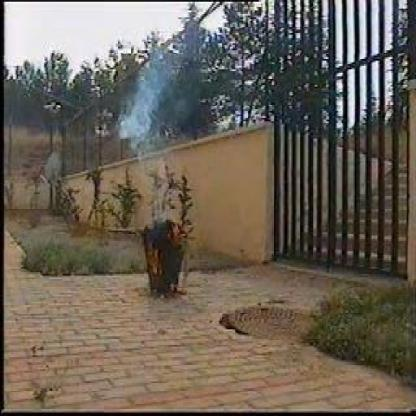-: (116, 49, 168, 145)
foggia-v2-map80-epoch100 - v1 4323: (146, 242, 163, 276)
